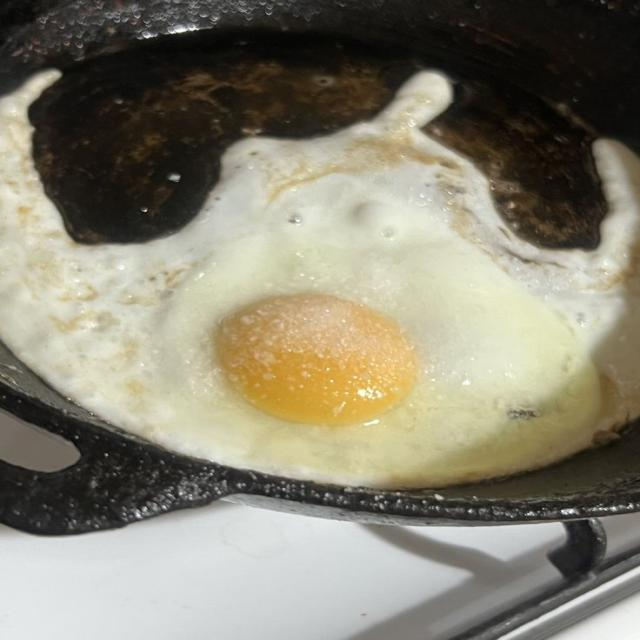fryed egg: (0, 72, 639, 487)
